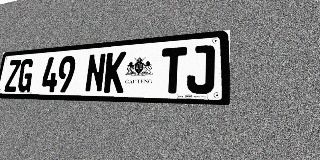4: (41, 56, 60, 92)
9: (56, 55, 76, 92)
G: (17, 58, 35, 92)
J: (186, 45, 215, 94)
K: (103, 51, 127, 93)
N: (84, 53, 106, 93)
T: (160, 47, 187, 94)
Z: (4, 59, 21, 92)
